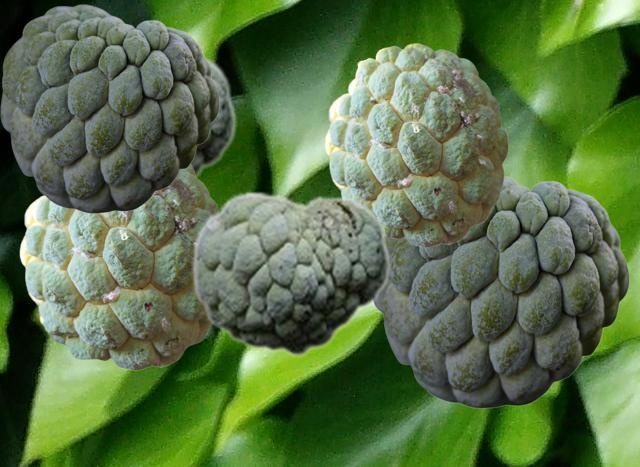atis: (374, 175, 628, 407), (0, 4, 218, 212), (19, 164, 218, 369), (324, 43, 507, 246), (191, 190, 390, 356), (192, 51, 236, 179)
